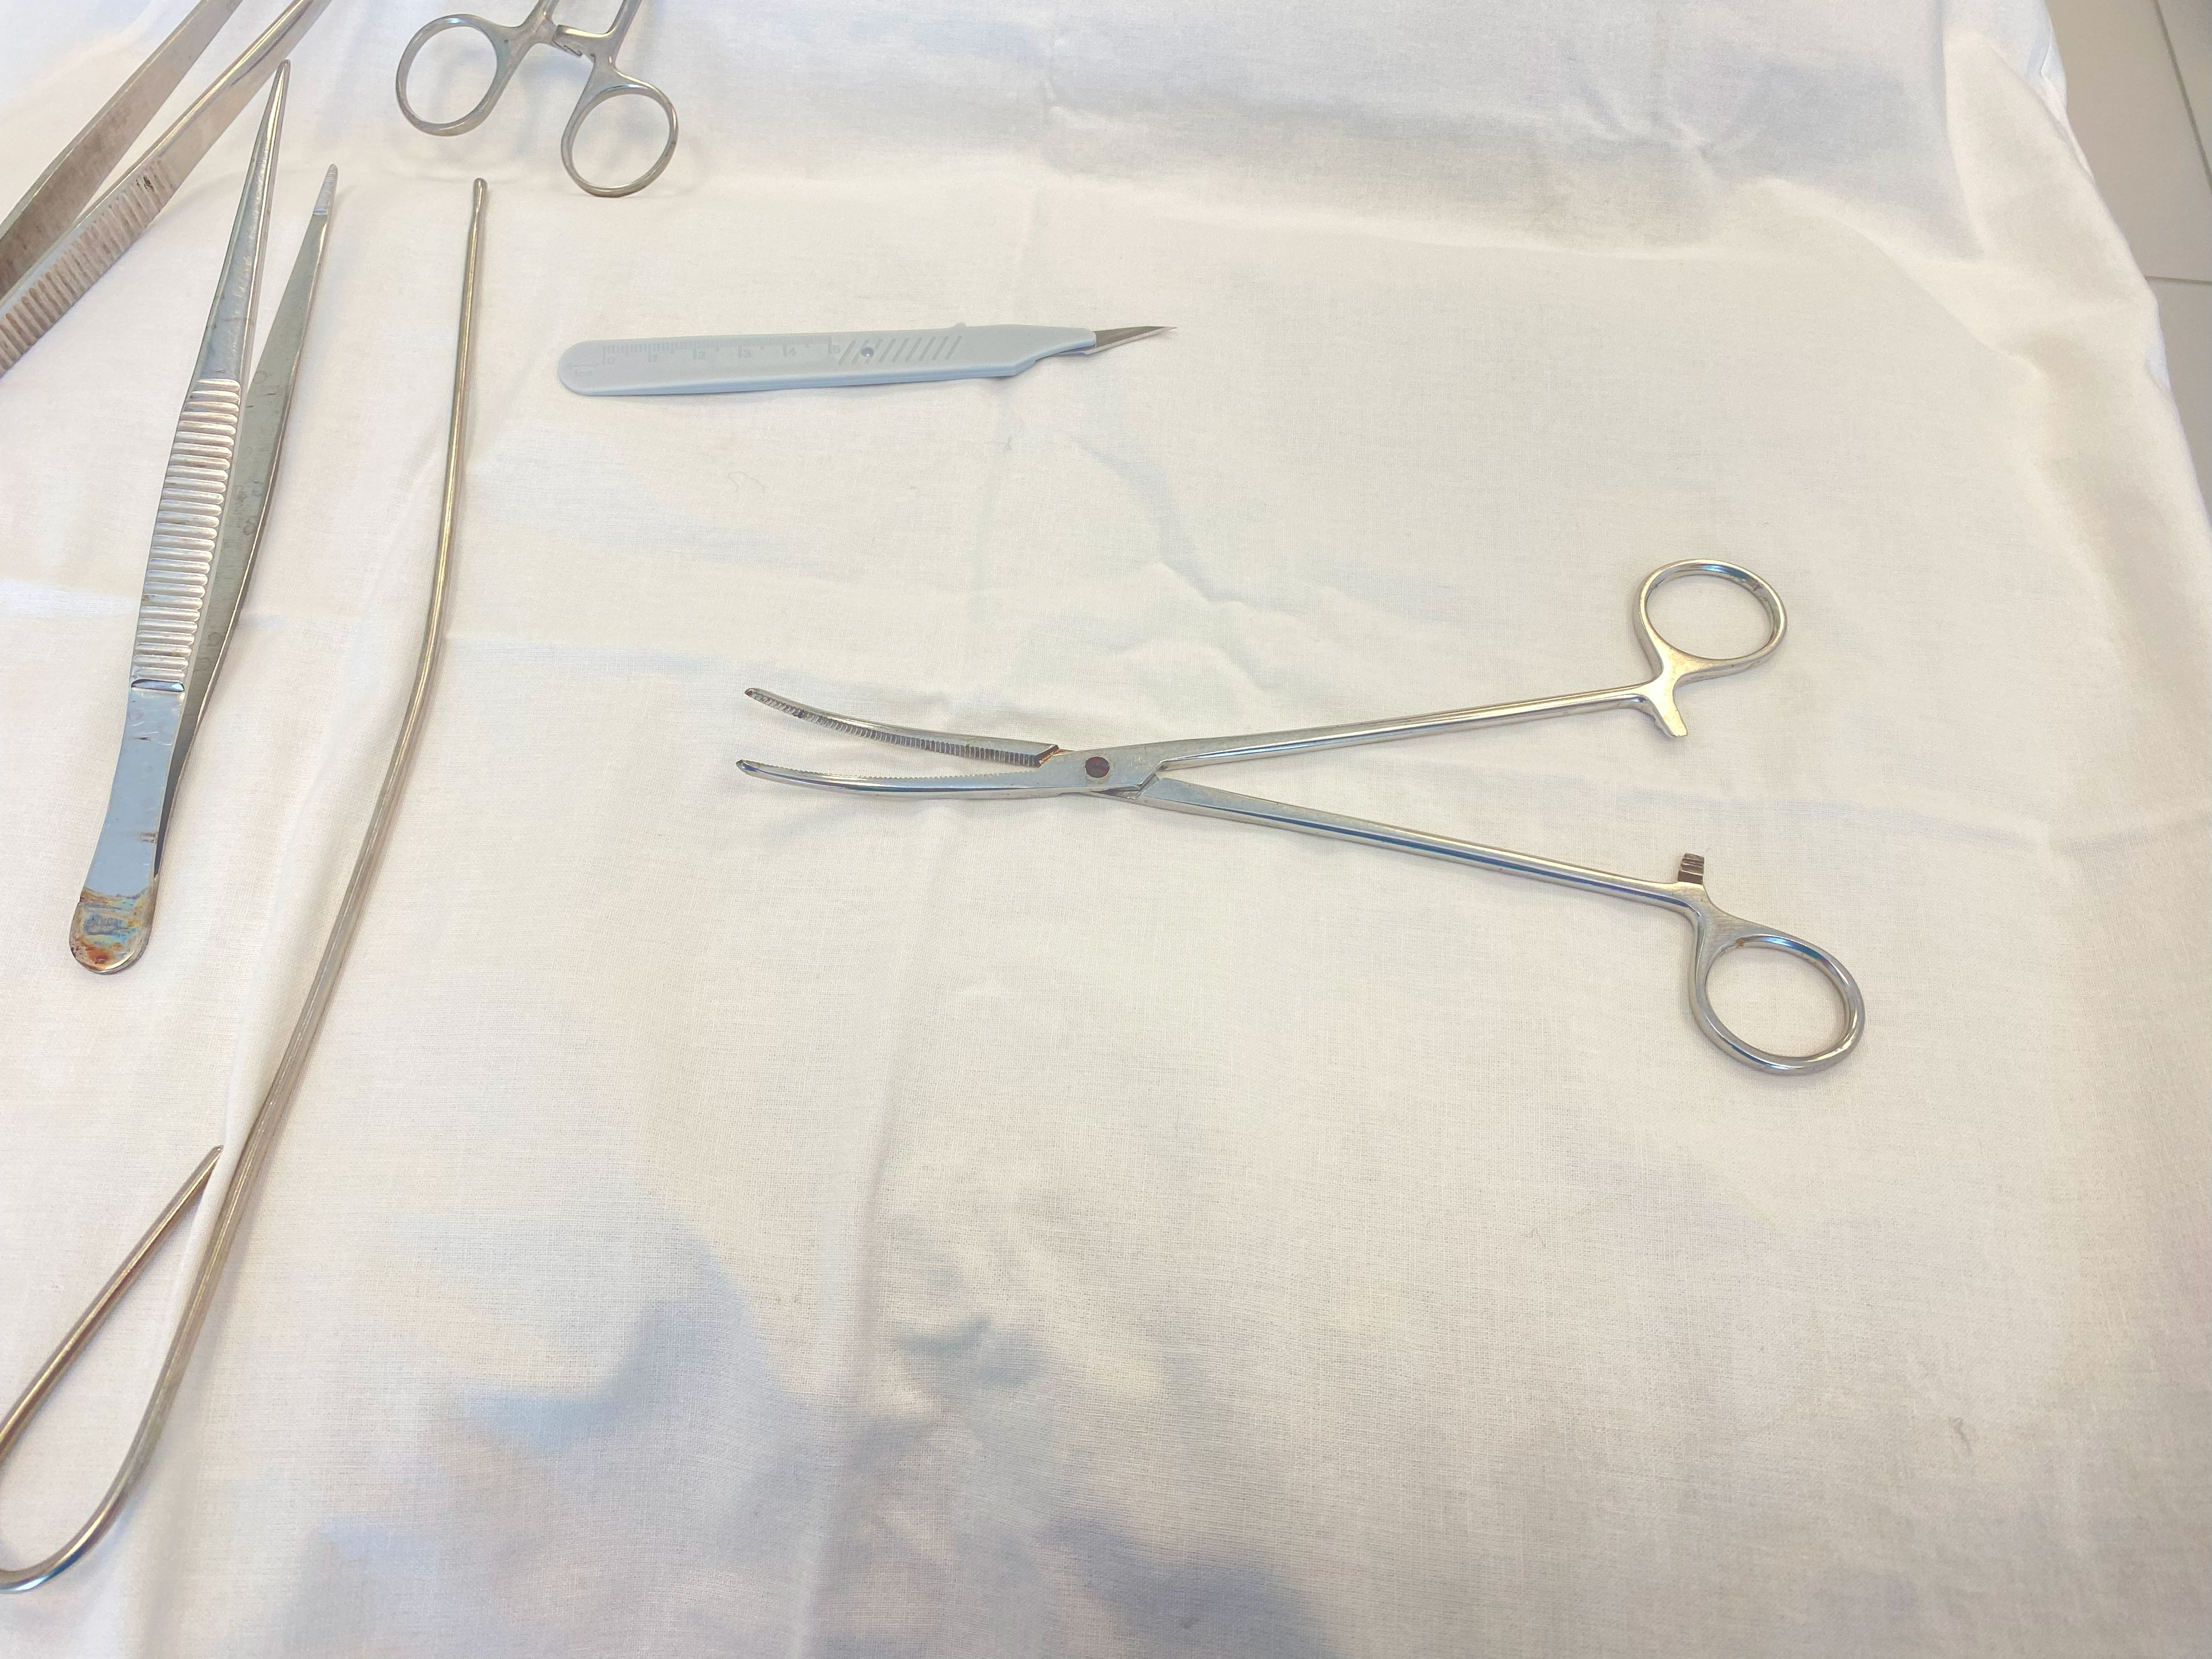clamp: (738, 559, 1865, 1075), (395, 0, 678, 197)
tweezers: (71, 64, 336, 972)
